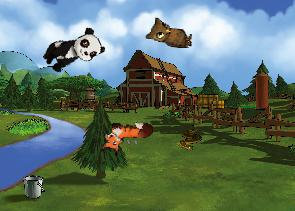fox: (100, 120, 153, 156)
owl: (145, 16, 194, 48)
panda: (39, 24, 106, 78)
